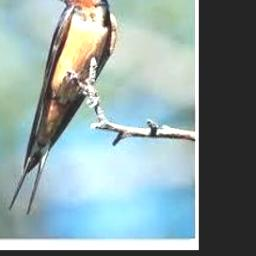Swallow: (8, 0, 118, 214)
